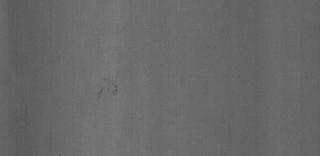water spot: (94, 74, 120, 104)
